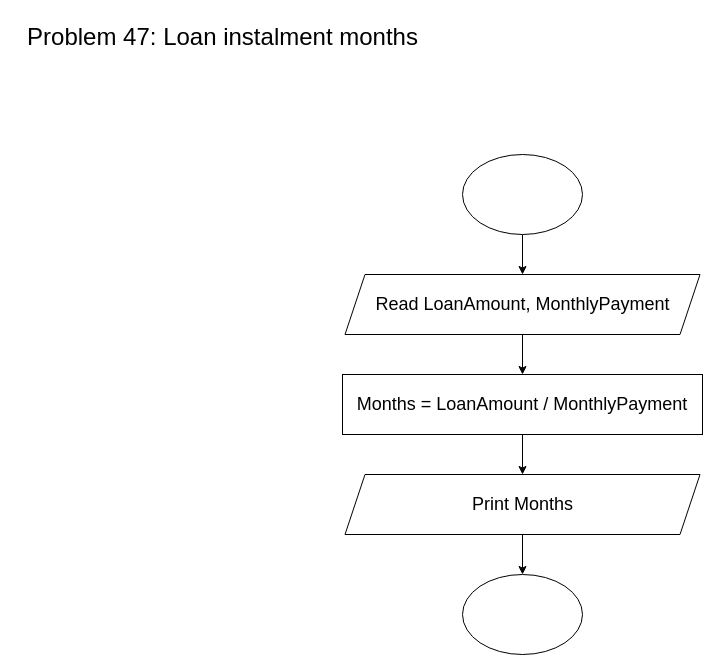
This 720x672 diagram has some shape labels left out. The box of each missing label's shape, as (x1, y1, x2, y2) in pixels:
End: (462, 574, 582, 654)
Start: (462, 154, 582, 234)
